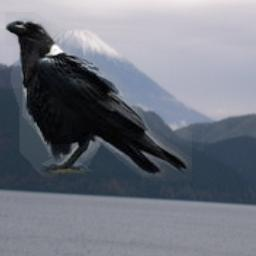Crow: (5, 12, 192, 181)
